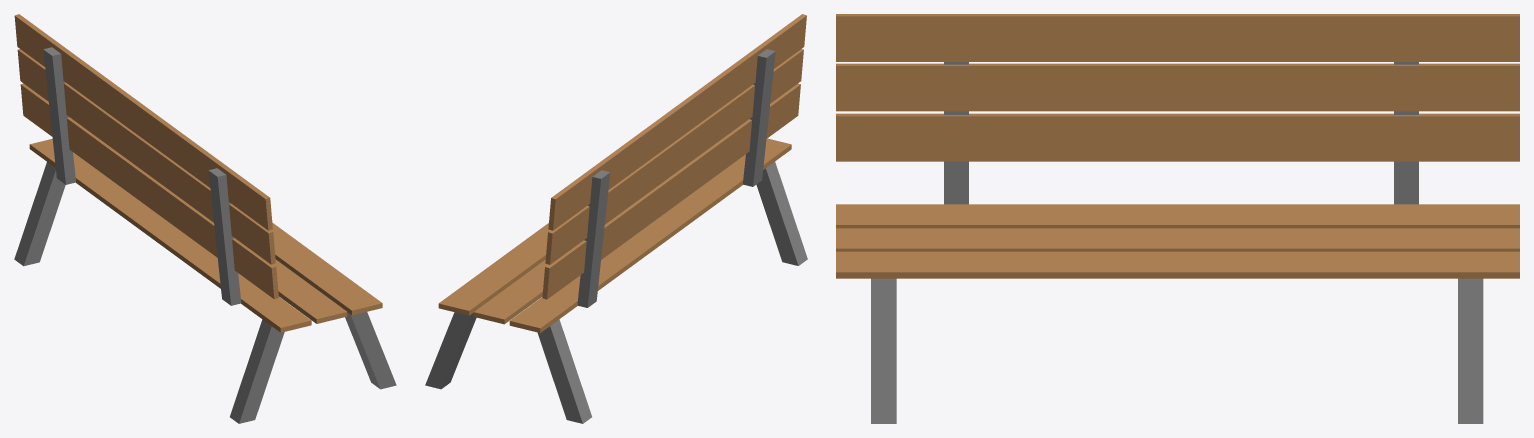
The model's file is Bench.fbx.
3 views of the same model, side by side, from view 1: azimuth 30°, elevation 25°; view 2: azimuth 150°, elevation 25°; view 3: azimuth 270°, elevation 25° (orthographic). The views are drawn at different scales.
Parts seen in each view (by area): view 1: Cube.005, Cube.011; view 2: Cube.005, Cube.011; view 3: Cube.005, Cube.011.
Part boxes in pixels (x1,y1,x2,y2): Cube.005: (14,14,382,332); Cube.011: (14,47,396,423); Cube.005: (438,14,806,332); Cube.011: (425,49,807,423); Cube.005: (836,14,1519,278); Cube.011: (871,62,1483,423).
Bounding box in the file's own units: 1028 × 1440 × 2834.
